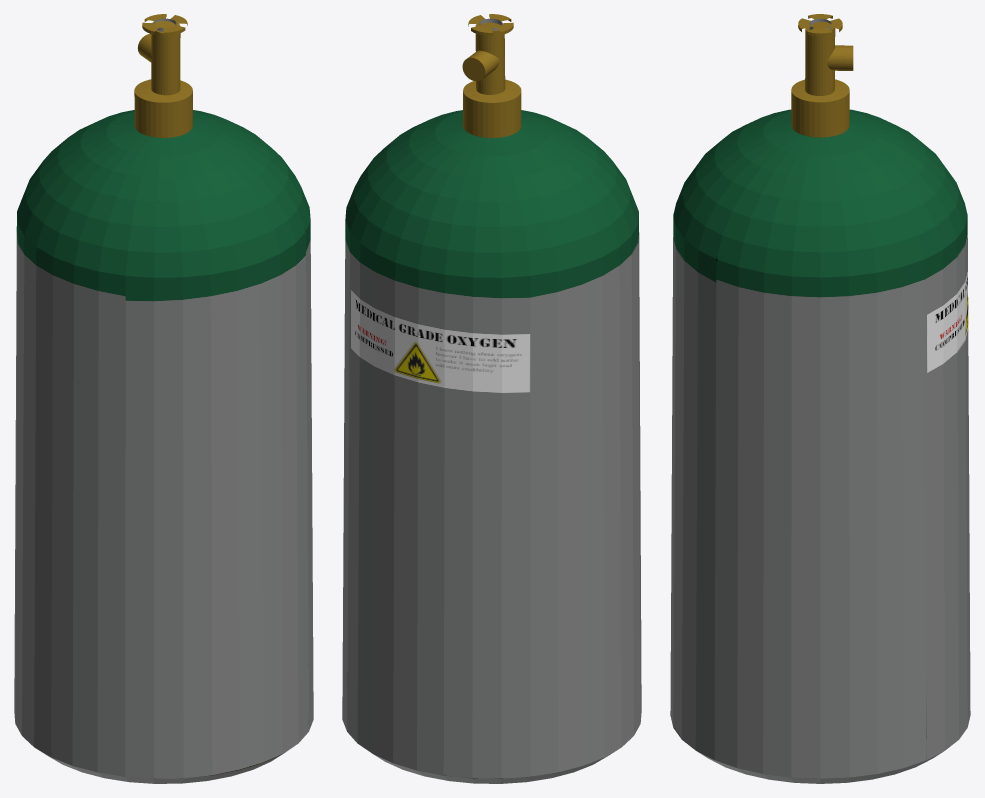
Rendered from OxygenTank.fbx.
The picture shows the model from 3 angles, left to right: view 1: azimuth 30°, elevation 25°; view 2: azimuth 150°, elevation 25°; view 3: azimuth 270°, elevation 25°; orthographic projection.
Parts seen in each view (by area): view 1: tank; view 2: tank; view 3: tank.
Boxes of the visible parts, <box> form: tank: <box>14,14,313,783</box>; tank: <box>342,14,641,783</box>; tank: <box>670,14,970,783</box>.
Bounding box in the file's own units: 13.03 × 33.72 × 13.03.
